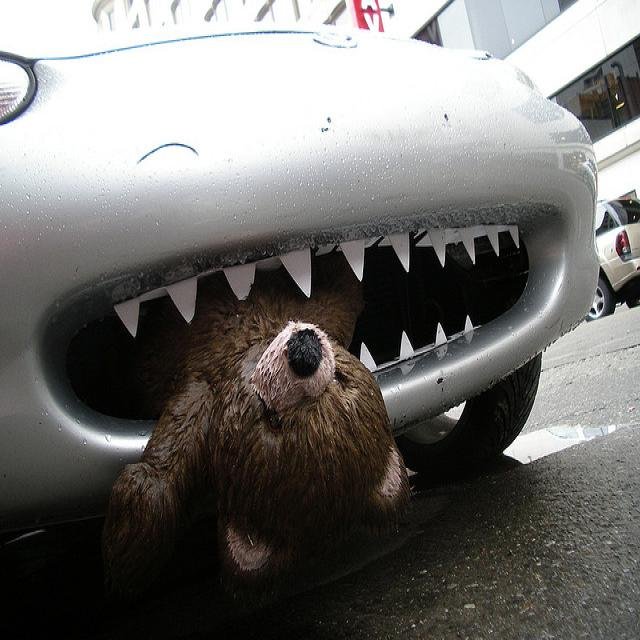Vehicle: (0, 24, 602, 621), (586, 194, 640, 322)
